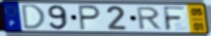2: (107, 5, 130, 32)
9: (47, 4, 69, 31)
D: (21, 3, 47, 31)
F: (162, 5, 188, 32)
P: (78, 4, 103, 32)
R: (136, 6, 164, 31)
